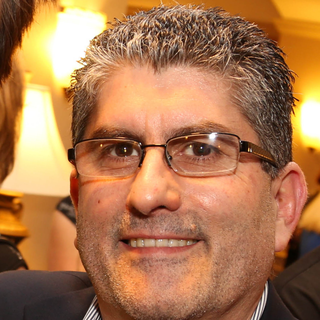eye: (173, 140, 229, 165), (97, 139, 142, 162)
